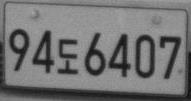0: (135, 33, 156, 78)
4: (107, 33, 132, 77), (31, 29, 55, 73)
6: (84, 31, 106, 76)
7: (158, 35, 182, 80)
9: (8, 27, 30, 71)
도: (56, 37, 79, 75)
